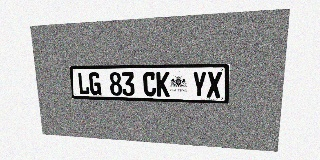3: (122, 72, 135, 96)
8: (109, 72, 122, 96)
C: (143, 72, 156, 96)
G: (89, 72, 101, 95)
K: (156, 72, 170, 97)
L: (77, 72, 90, 95)
X: (207, 71, 222, 98)
Y: (192, 71, 207, 97)
